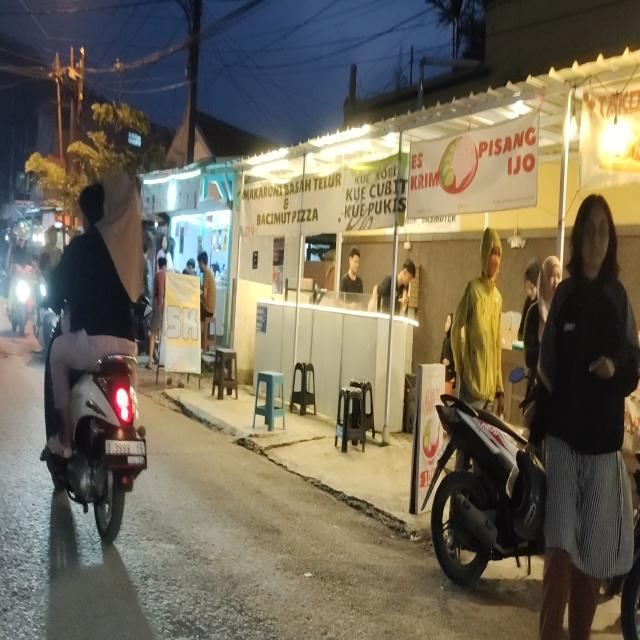no-helmet: (104, 172, 140, 220), (79, 183, 103, 230)
